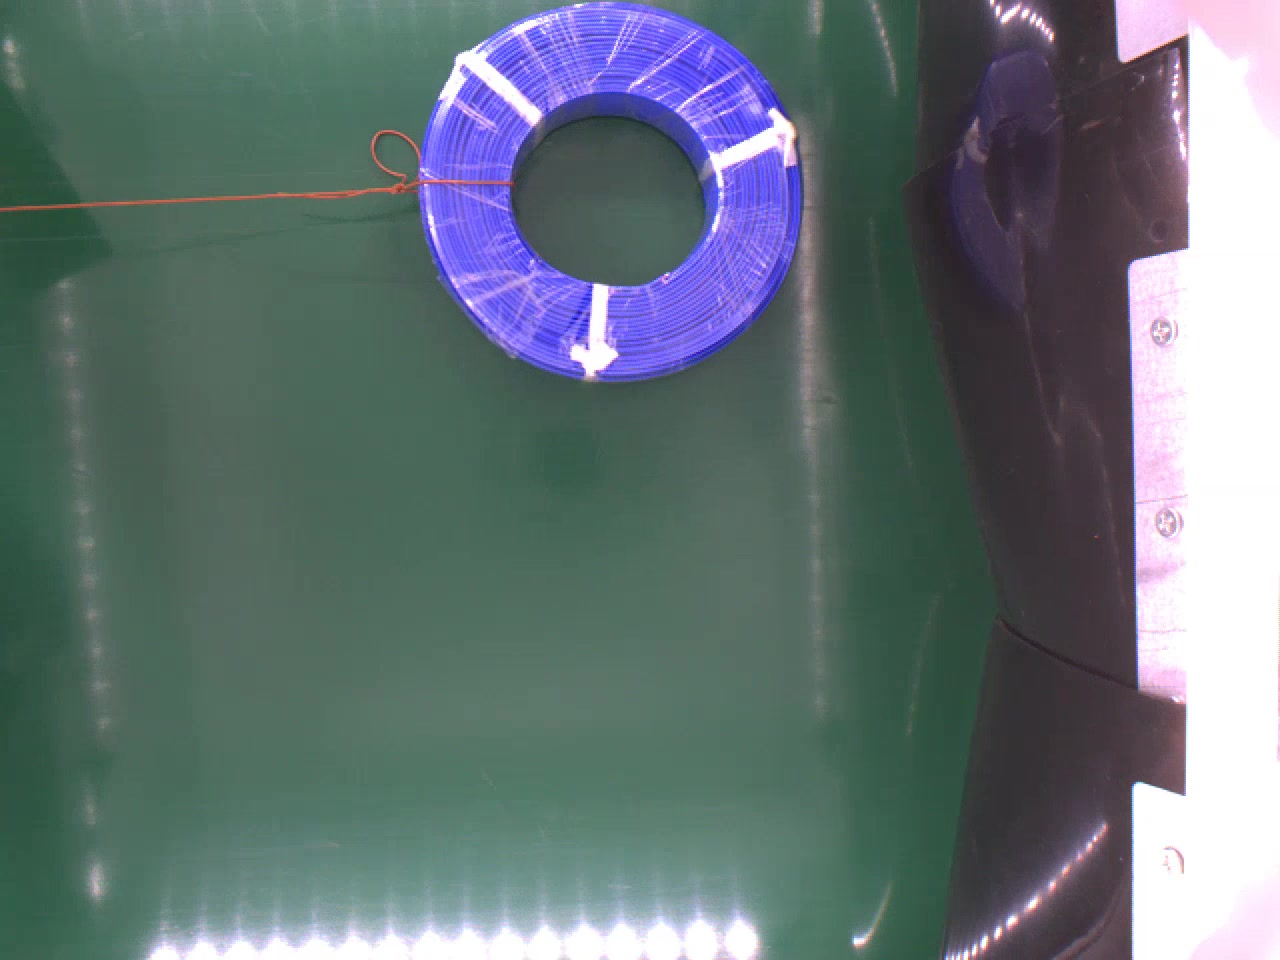blue: (415, 0, 806, 378)
